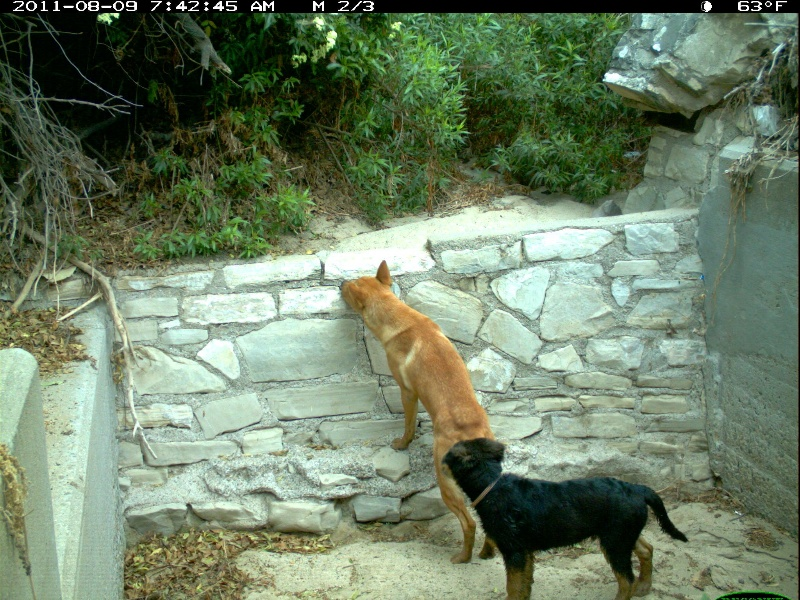dog: (327, 255, 514, 566), (442, 432, 700, 600)
